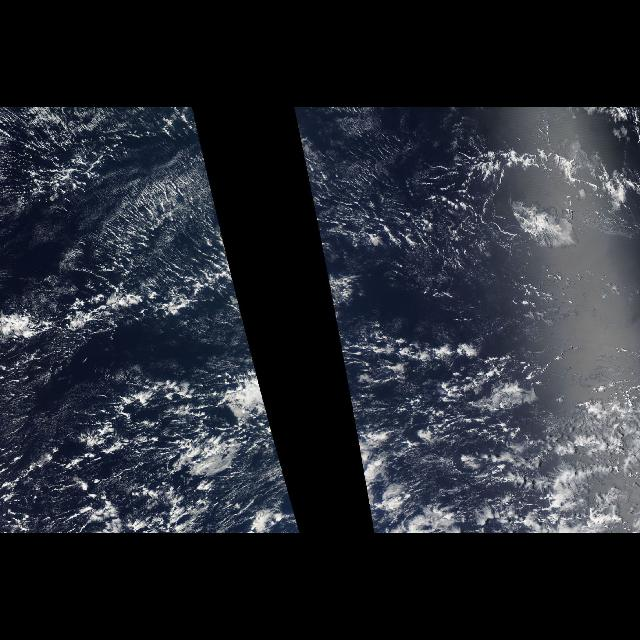Sugar: (5, 115, 236, 287), (295, 115, 419, 287)
